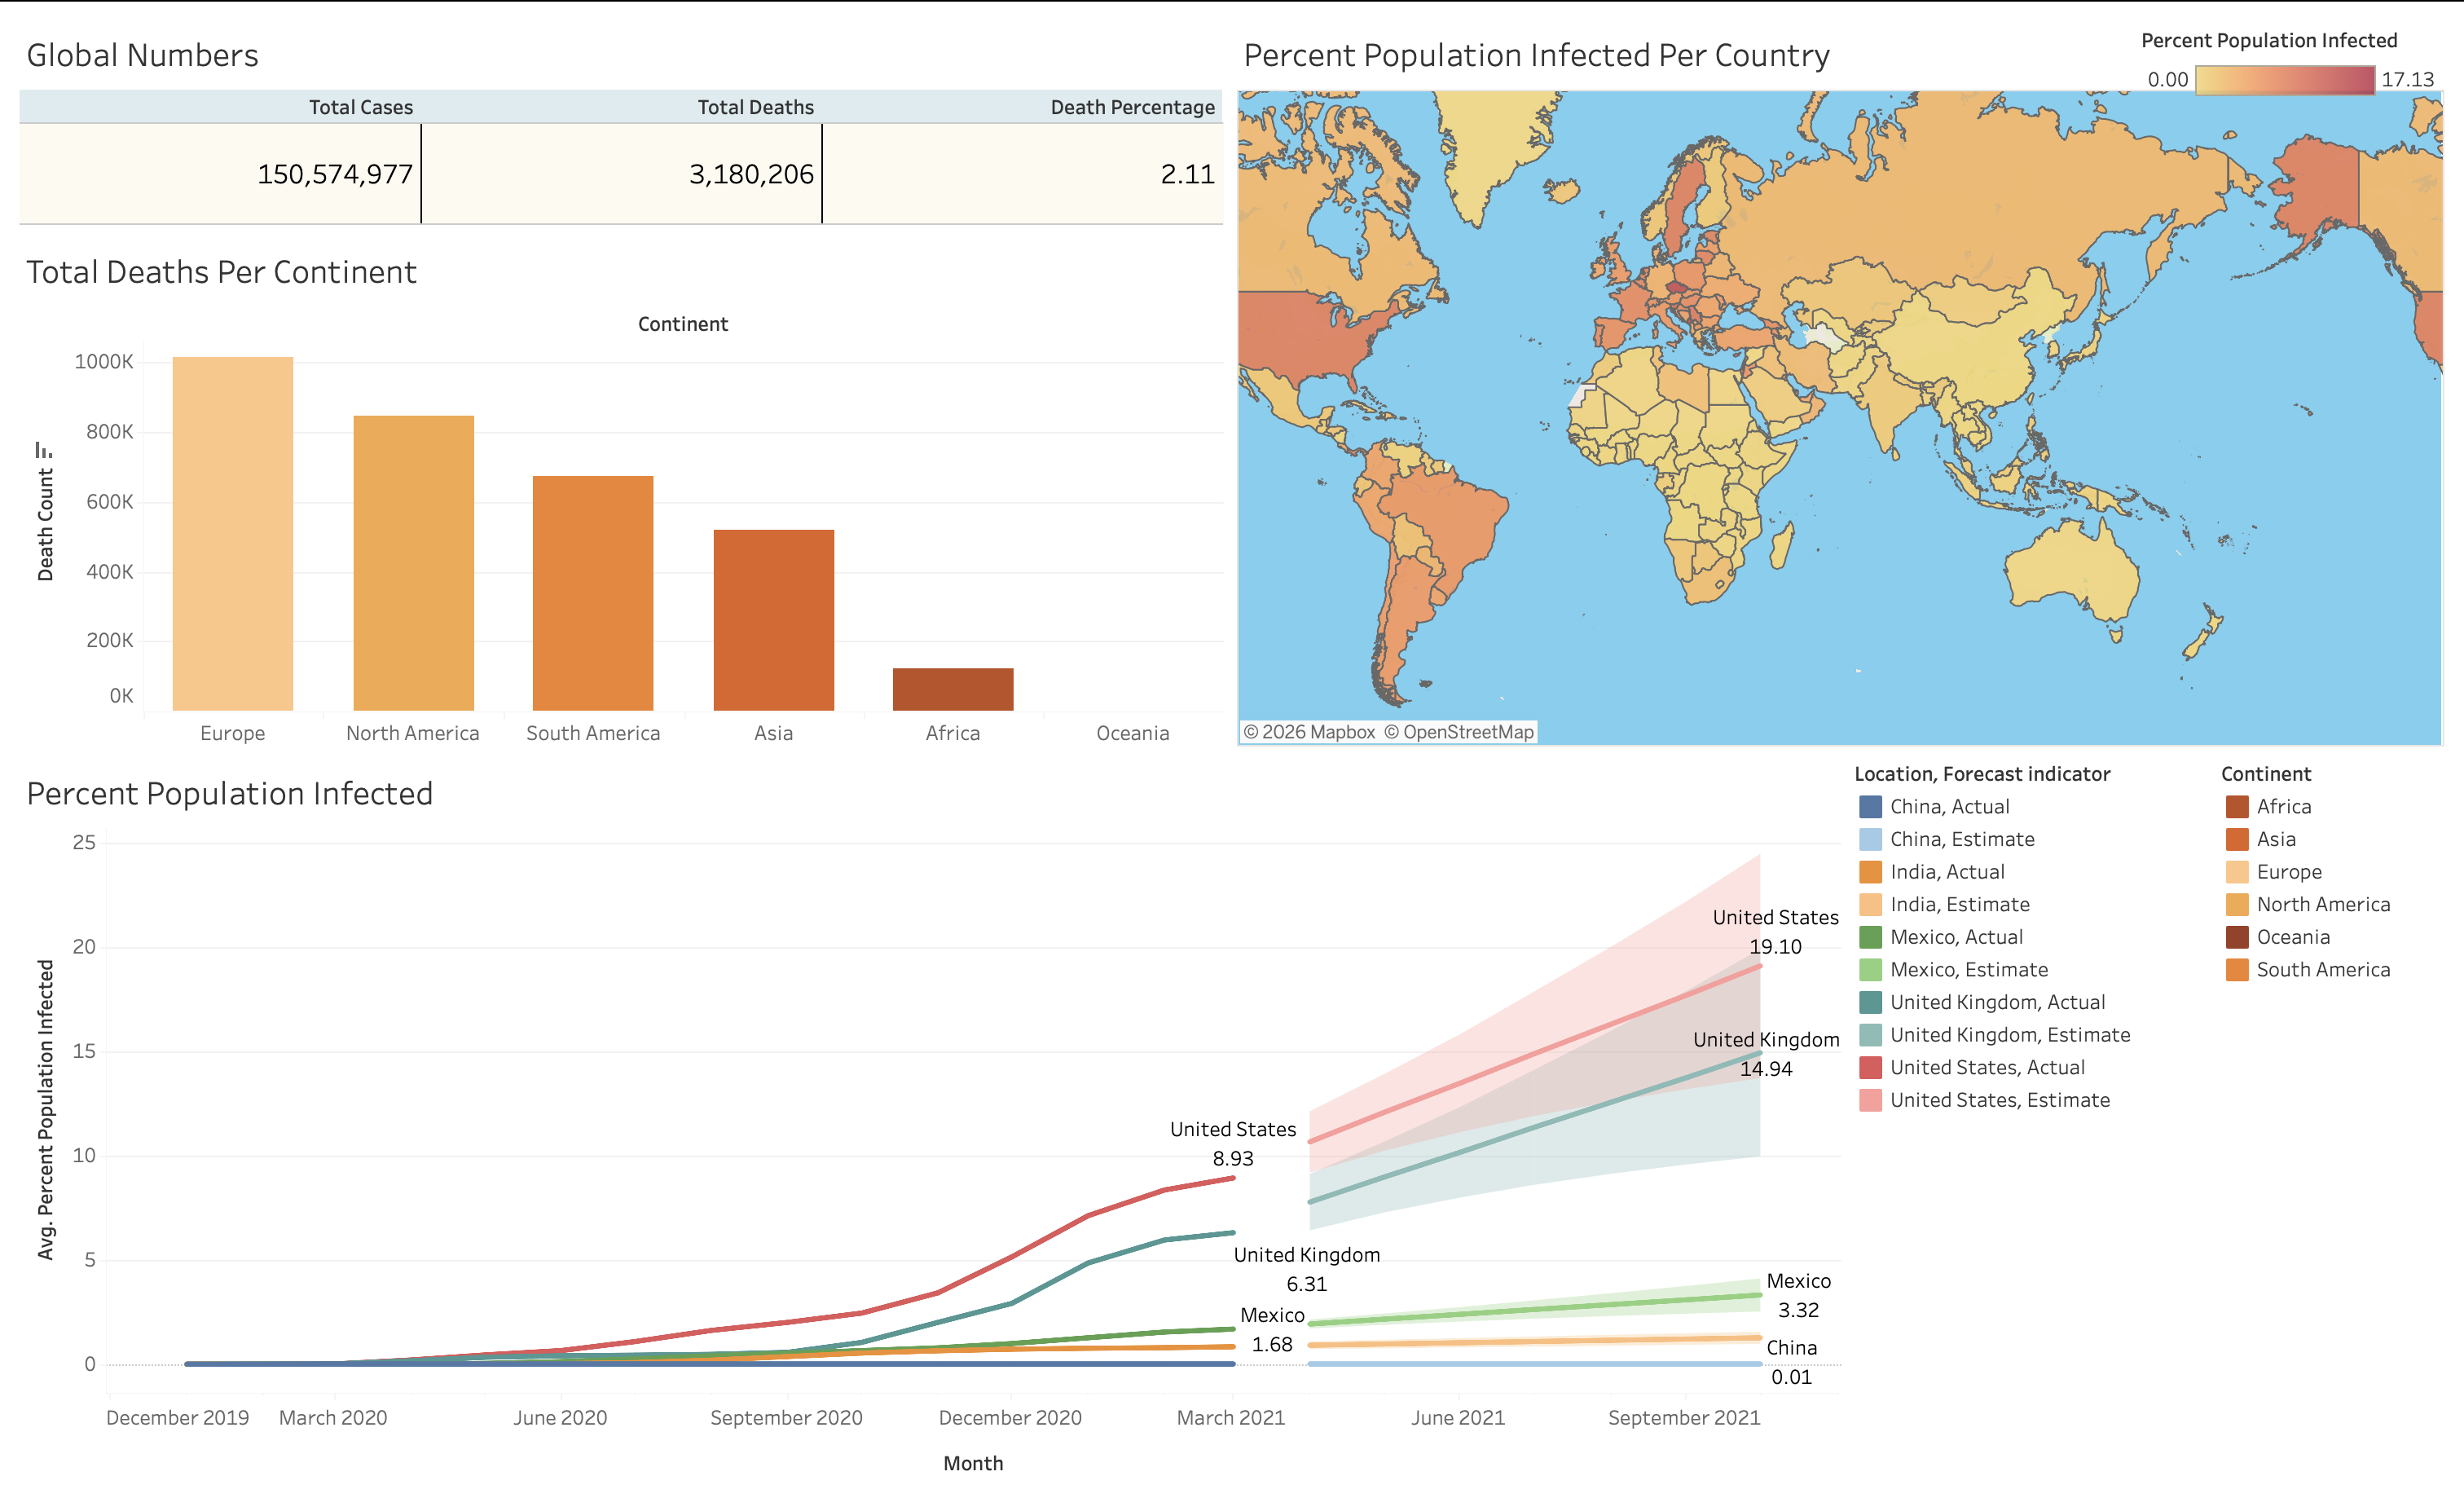

This screenshot's page, from the dashboard's own definition file:
{"tool":"tableau","page":{"name":"Dashboard 1","canvas":[1000,1000],"units":"permille","ordinal":0},"visuals":[{"type":"worksheet","title":"Sheet 1","mark":"Automatic","box":[6.2,12.1,493.4,143.3]},{"type":"worksheet","title":"Sheet 3","mark":"Automatic","box":[499.6,12.1,494.2,487.9]},{"type":"legend","title":"Sheet 3","param":"[federated.07kc7a31bvhsn815d6ely0xl9gf0].[sum:PercentPopulationInfected:qk]","box":[868.9,16.6,122.6,120.9]},{"type":"worksheet","title":"Sheet 2","mark":"Automatic","rows":["TotalDeathCount"],"cols":["location"],"box":[6.2,155.4,493.4,344.6]},{"type":"worksheet","title":"Sheet 4","mark":"Automatic","rows":["PercentPopulationInfected"],"cols":["date"],"box":[6.2,500,743.2,487.9]},{"type":"legend","title":"Sheet 4","param":"[federated.1u3kctc0mx7lpp1g5o8te0z931fi].[none:Location:nk]\n[federated.1u3kctc0m","box":[749.4,500,149,487.9]},{"type":"legend","title":"Sheet 2","param":"[federated.0fugel313i9rd0185n2bf1eh9xvj].[none:location:nk]","box":[898.4,500,95.4,487.9]}]}

Visuals, with their boxes on the dashboard's canvas, which has no fixed pixel size, in thousandths of its width and height (x1, y1, x2, y2). These are canvas units, not pixel positions in the 2464x1498 screenshot, which may show the page scaled, cropped or inside an application window:
"Sheet 1" worksheet: 6,12,500,155
"Sheet 3" worksheet: 500,12,994,500
"Sheet 3" legend: 869,17,992,138
"Sheet 2" worksheet: 6,155,500,500
"Sheet 4" worksheet: 6,500,749,988
"Sheet 4" legend: 749,500,898,988
"Sheet 2" legend: 898,500,994,988
